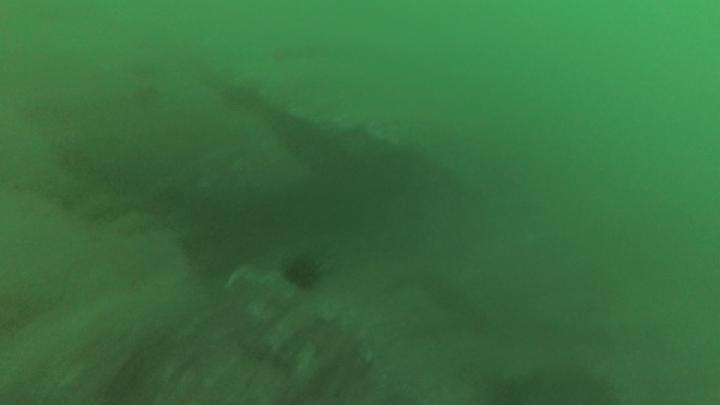echinus: (285, 259, 323, 289)
